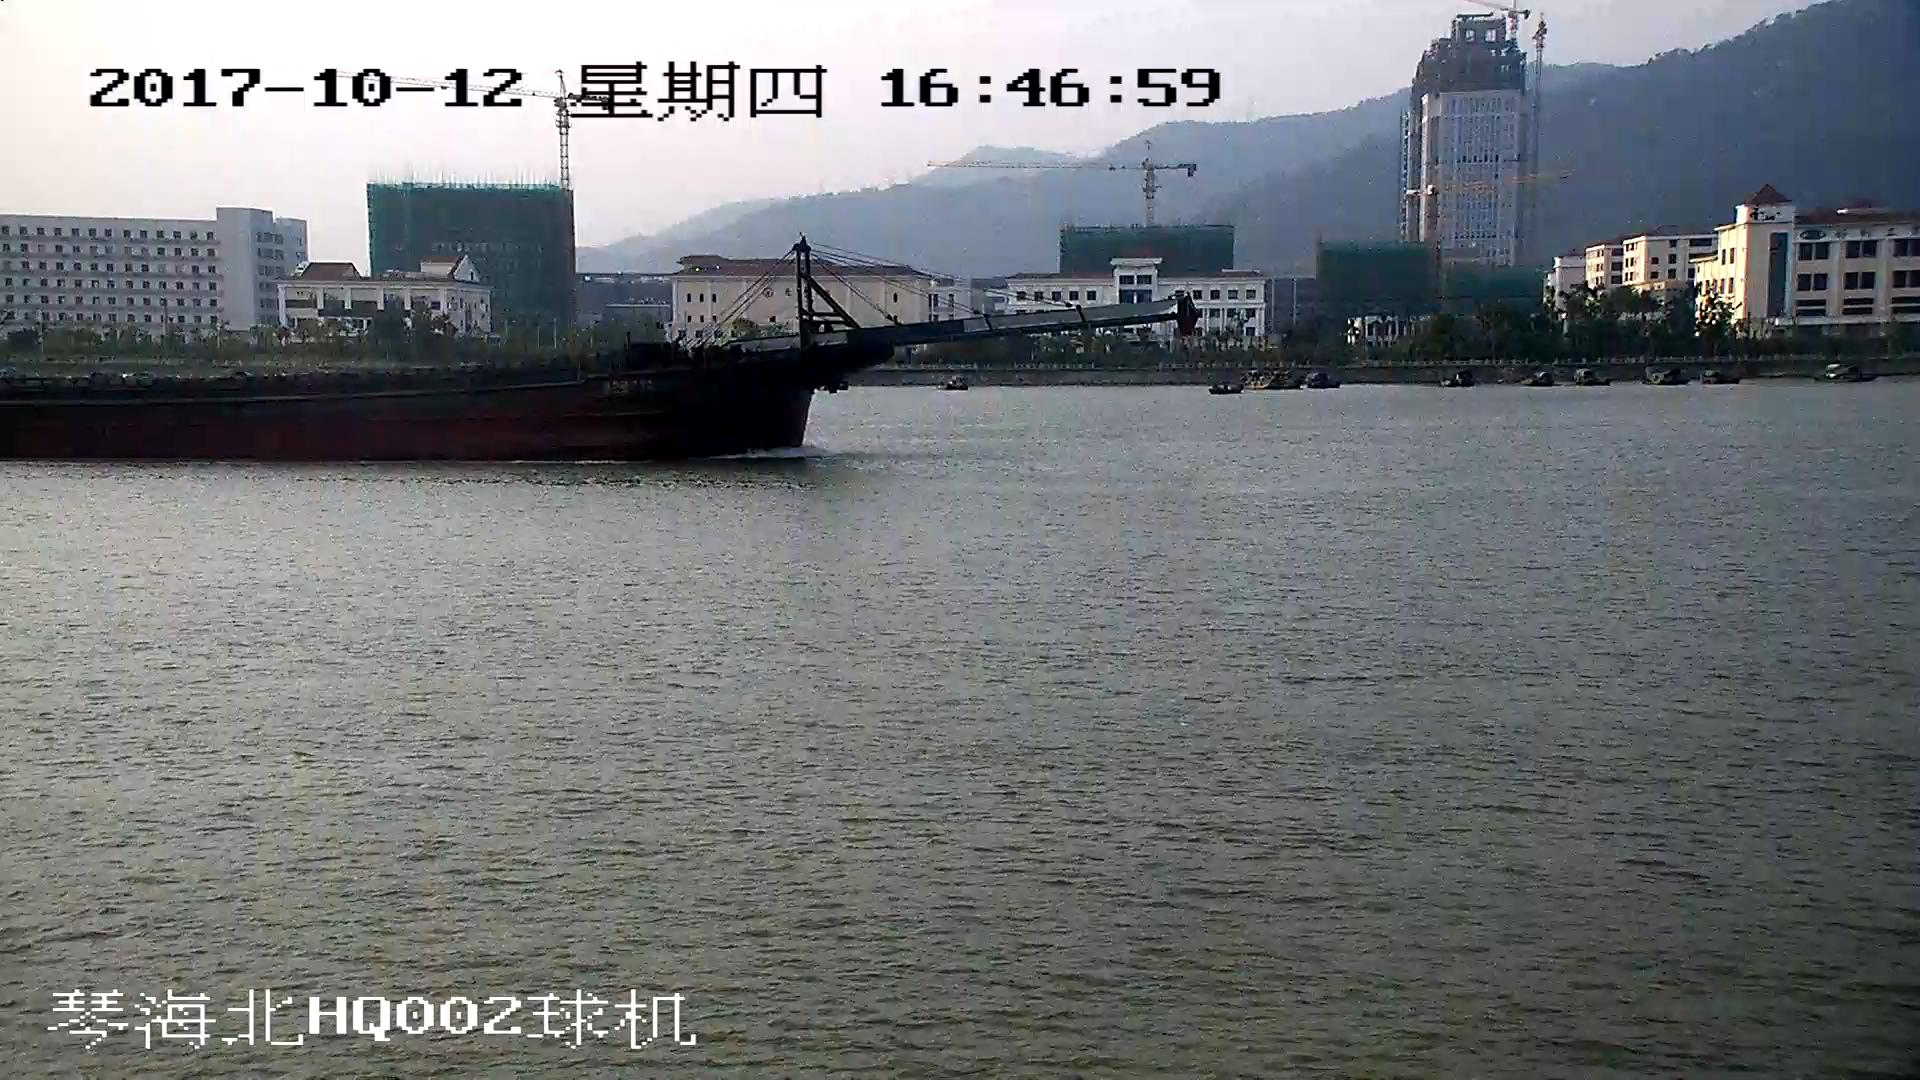bulk cargo carrier: (1, 230, 1186, 460)
